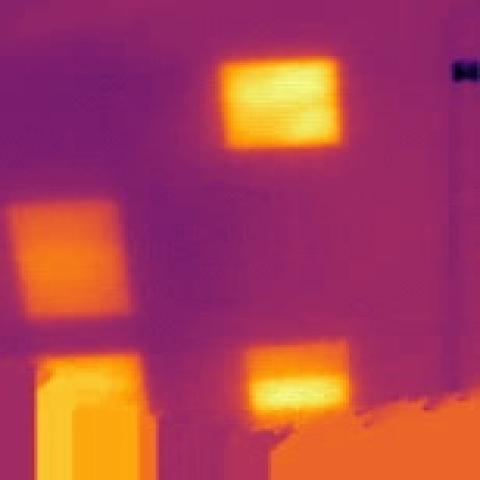fault: (0, 193, 144, 328), (23, 346, 165, 480), (208, 52, 355, 156), (232, 335, 360, 433)
